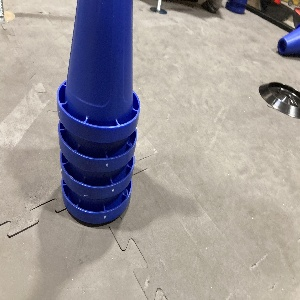Blue_4: (53, 0, 144, 227)
